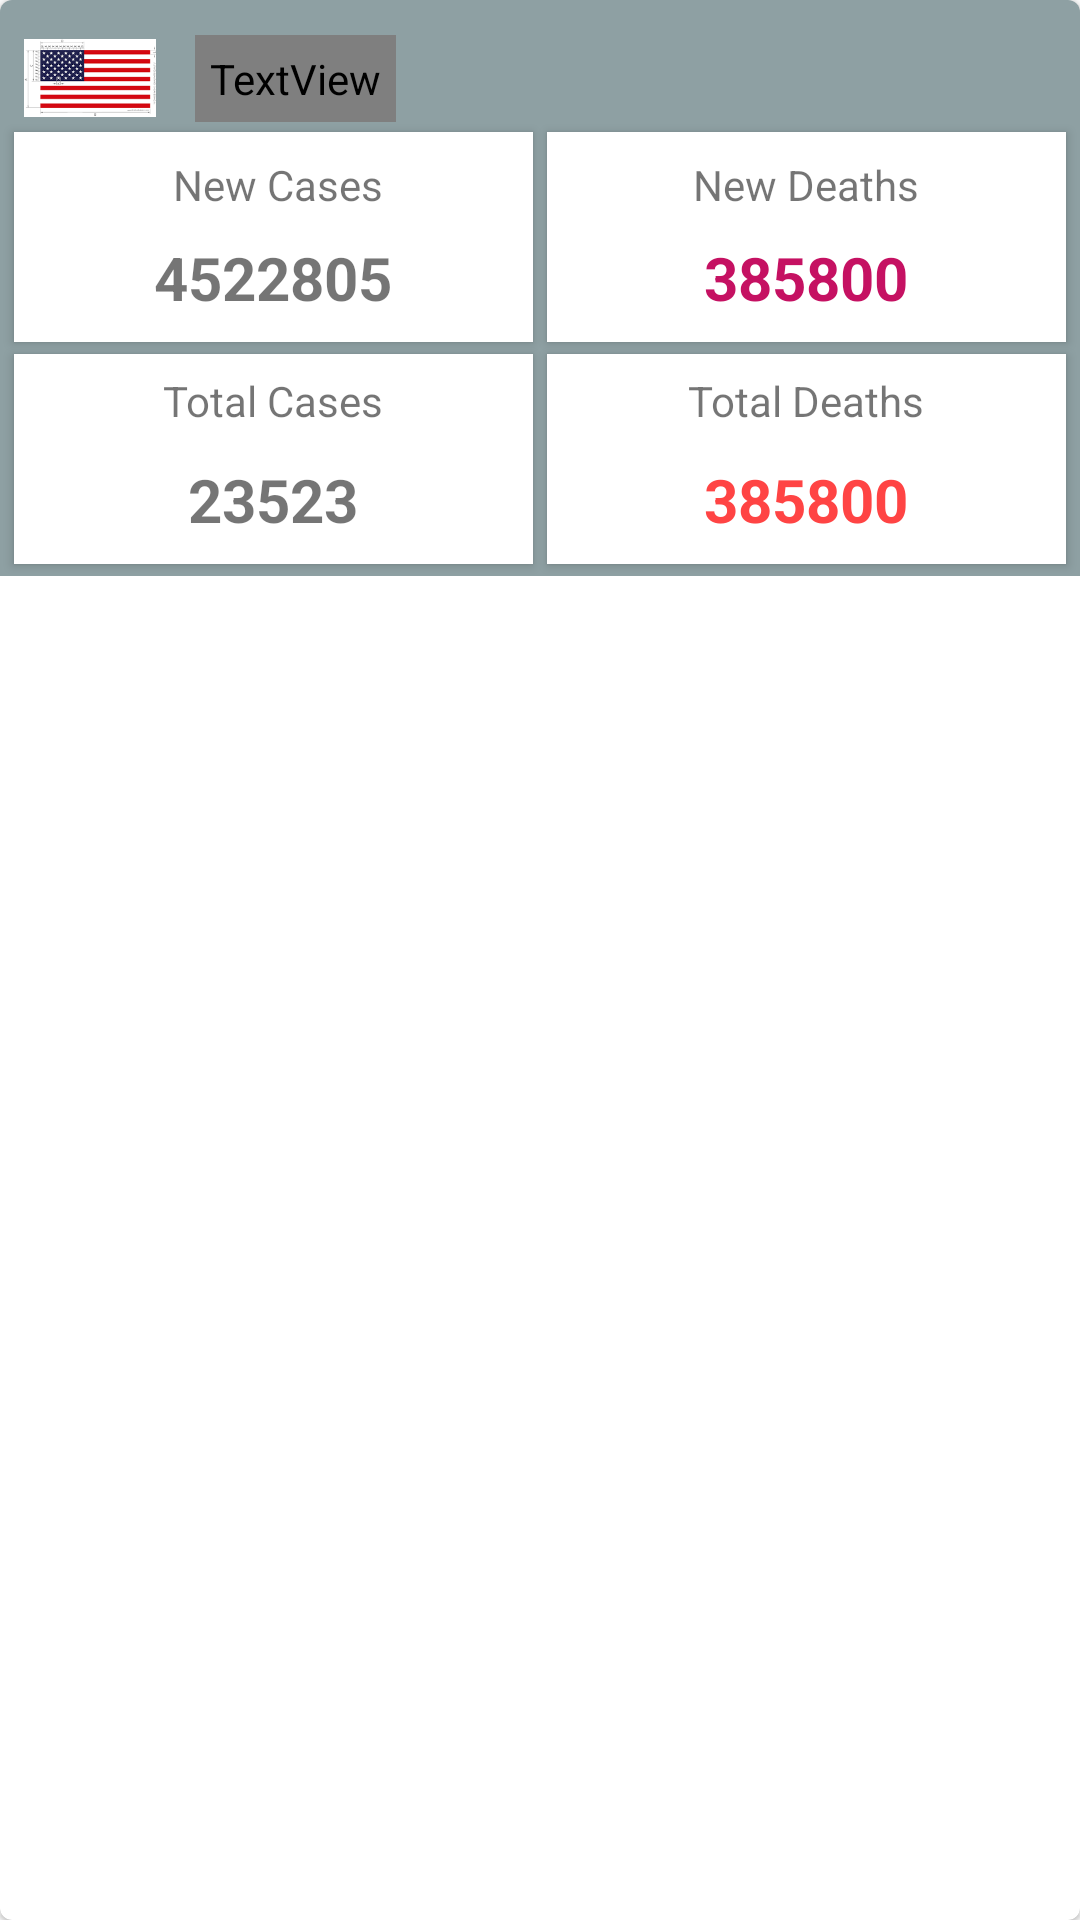

Icon click points for this 1080×1920 phone screenshot, format (x=x, y=y):
images: (x=90, y=78)
